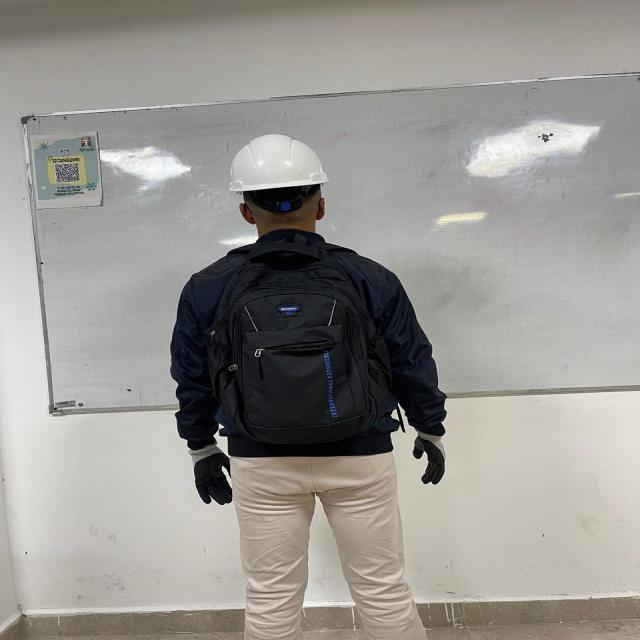gloves: (189, 442, 232, 505), (413, 432, 445, 484)
helmet: (229, 134, 329, 193)
